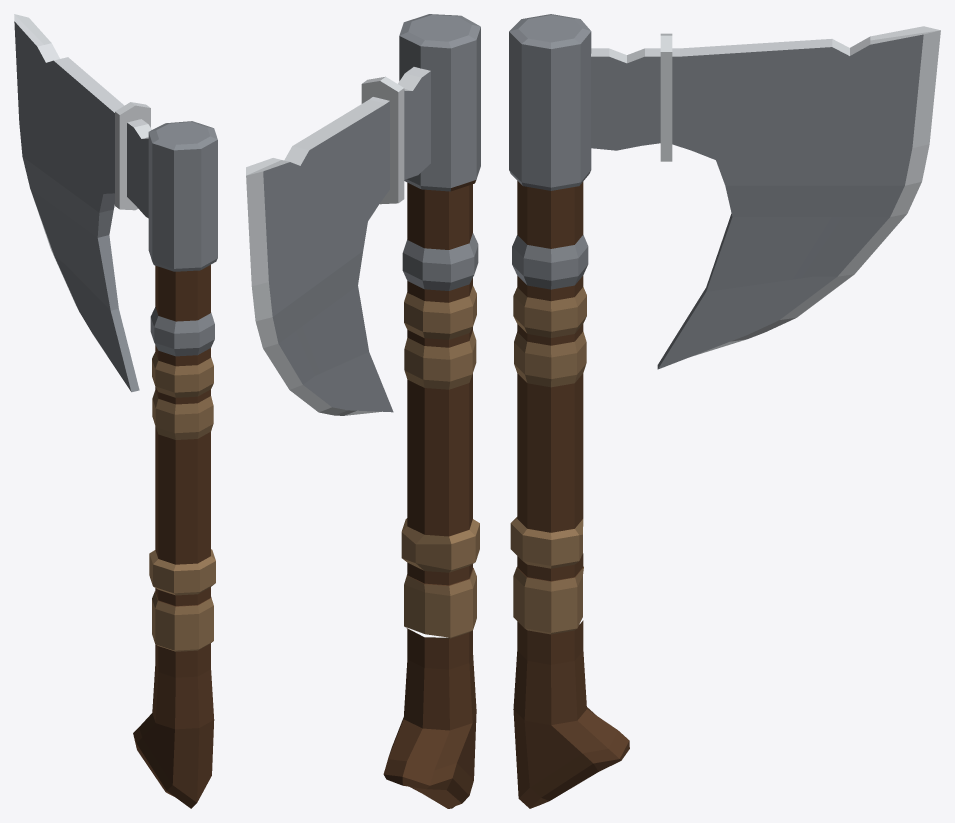
The model's file is battle_axe.glb.
The picture shows the model from 3 angles, left to right: view 1: azimuth 30°, elevation 25°; view 2: azimuth 150°, elevation 25°; view 3: azimuth 270°, elevation 25°; orthographic projection. The views are drawn at different scales.
Parts seen in each view (by area): view 1: Cube.001; view 2: Cube.001; view 3: Cube.001.
Boxes of the visible parts, x1=… form: Cube.001: x1=14, y1=14, x2=217, y2=808; Cube.001: x1=246, y1=14, x2=480, y2=808; Cube.001: x1=509, y1=14, x2=940, y2=808.
Size of the model in its own units: 0.2227 by 2.3 by 1.16.
